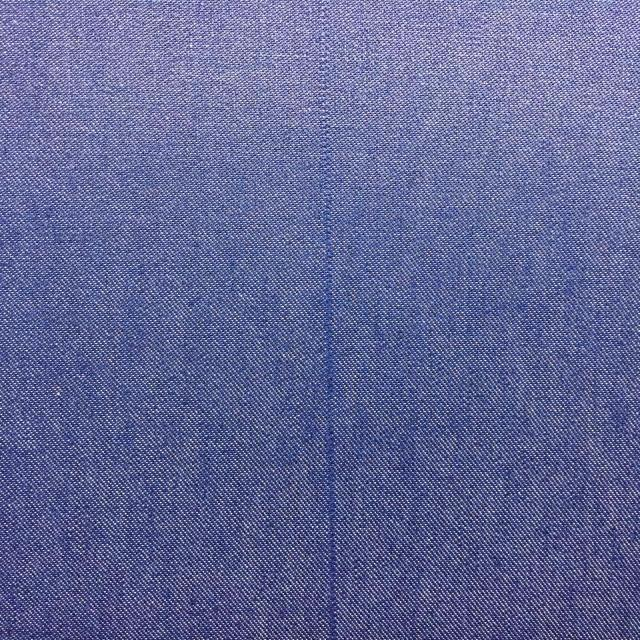Line: (314, 0, 342, 640)
